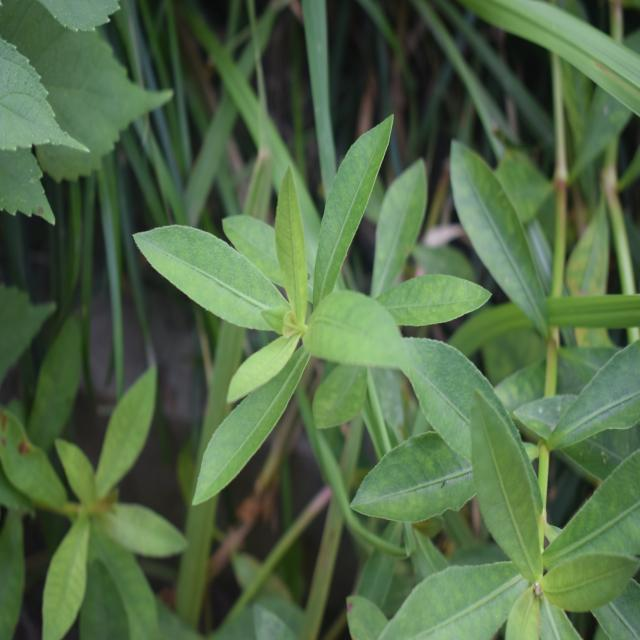Alligatorweed: (141, 119, 434, 474)
